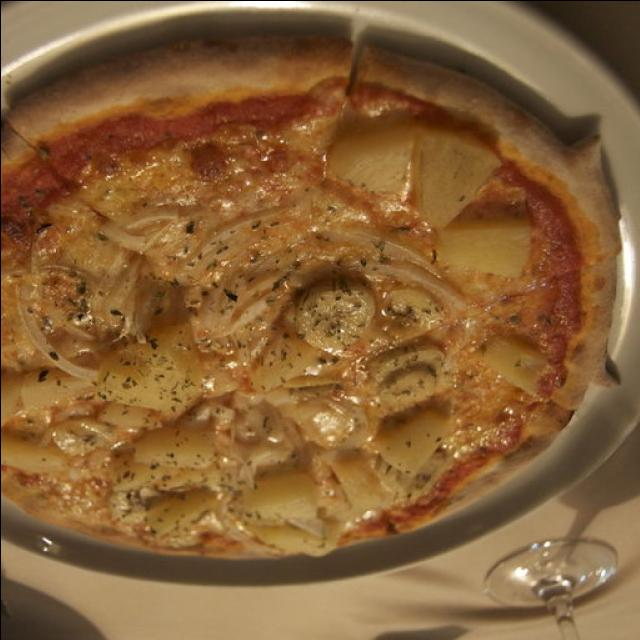pizza: (0, 31, 622, 561)
